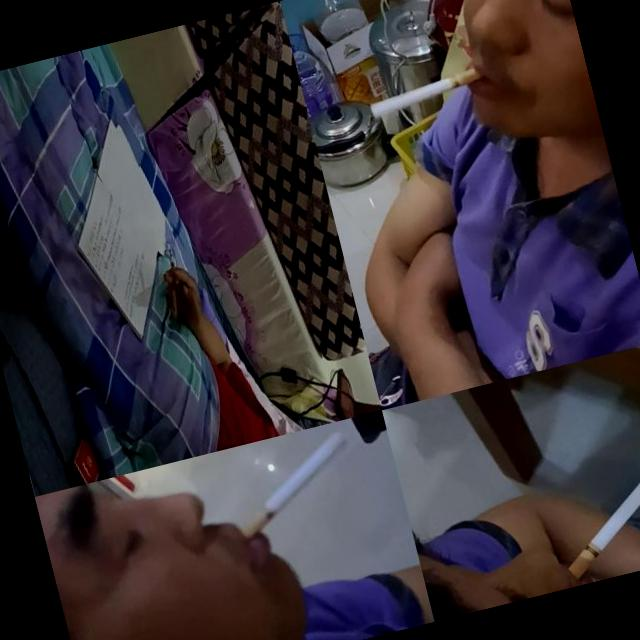smoke: (222, 431, 366, 544), (552, 465, 640, 580), (366, 62, 492, 120), (167, 248, 180, 284)
